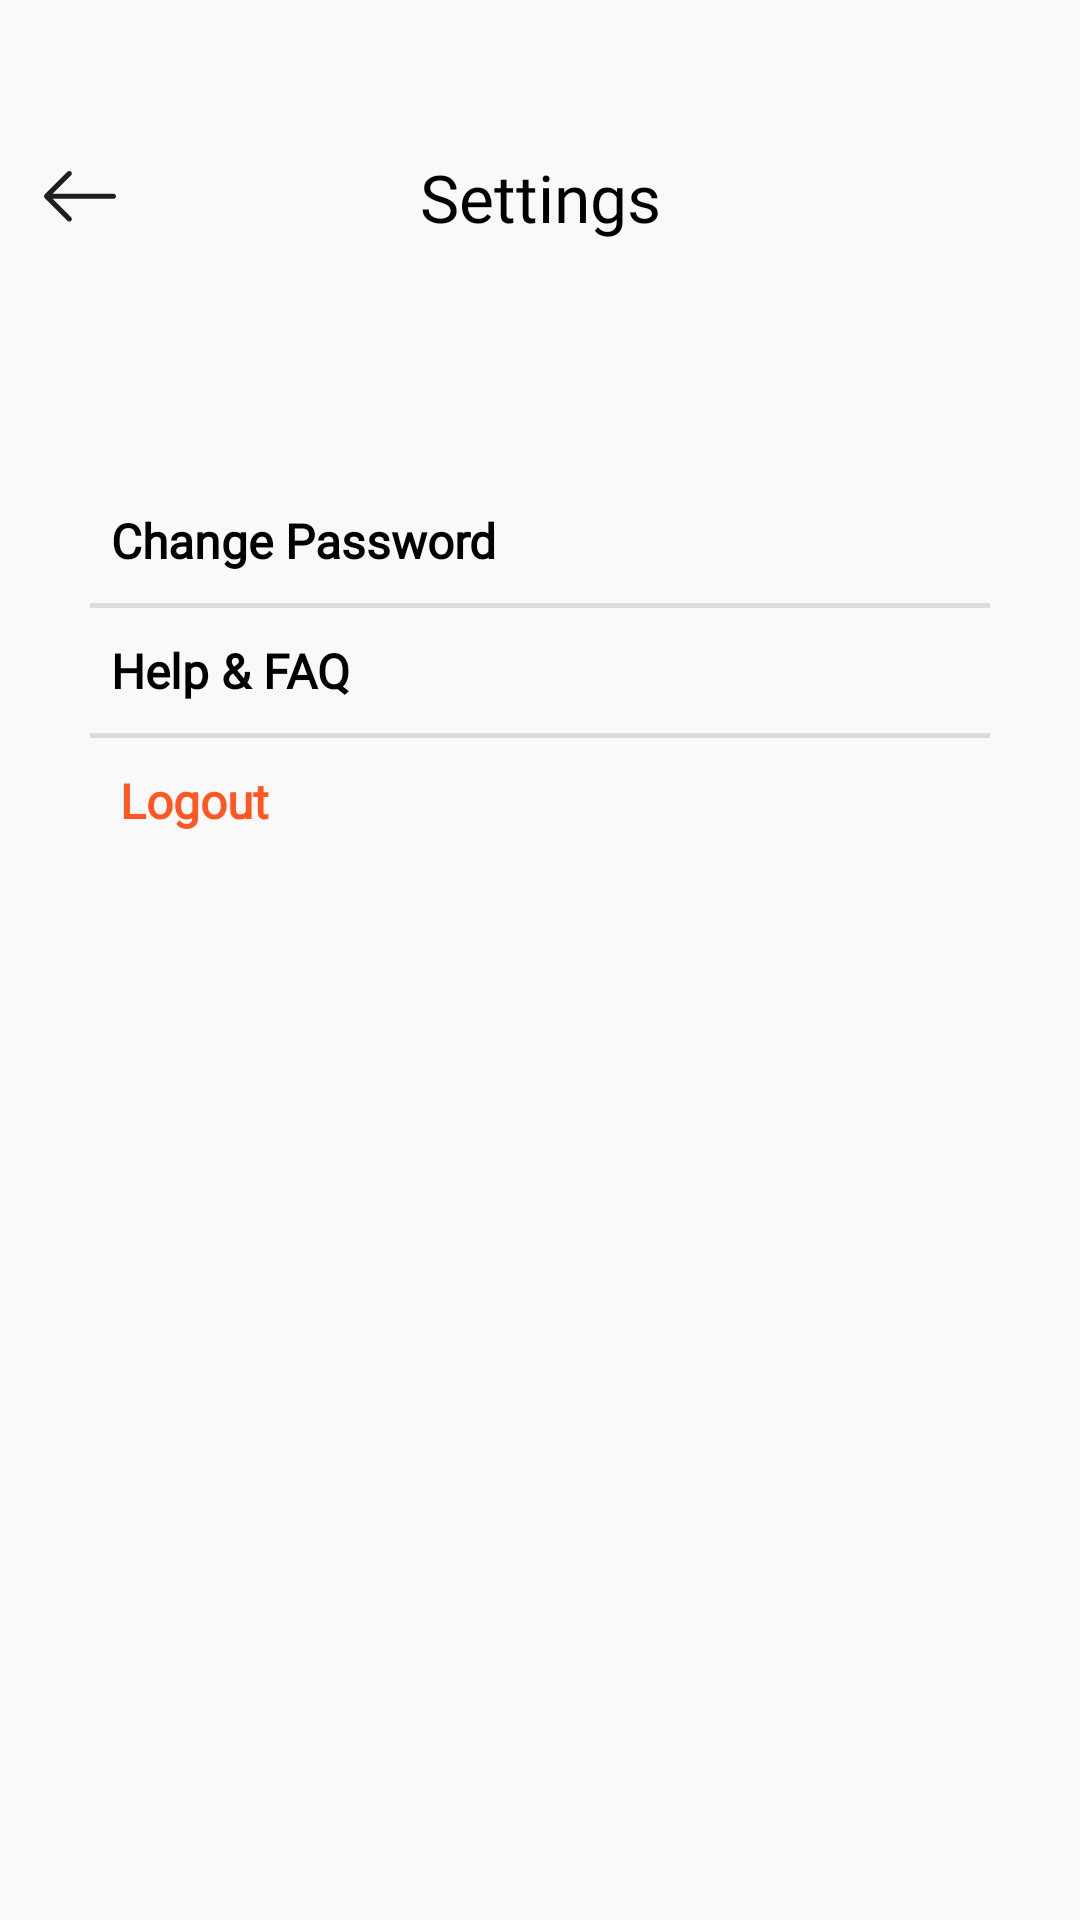

Where icons sit on this 1080 × 1920 app screen, as (left=x1, top=y1, right=x2, bottom=y2):
back: (left=44, top=171, right=116, bottom=222)
